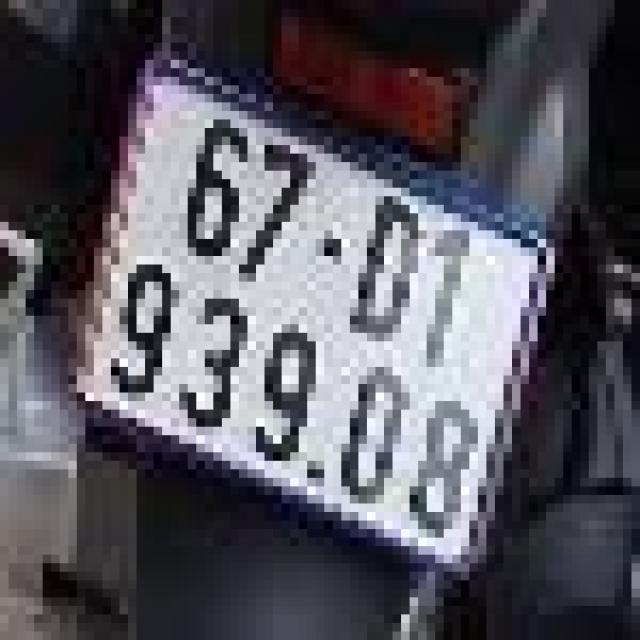0: (327, 354, 418, 519)
1: (409, 212, 498, 379)
3: (164, 285, 262, 443)
6: (173, 103, 260, 267)
7: (227, 129, 334, 292)
8: (391, 381, 487, 554)
9: (236, 316, 333, 476), (98, 252, 191, 414)
D: (336, 185, 443, 356)
